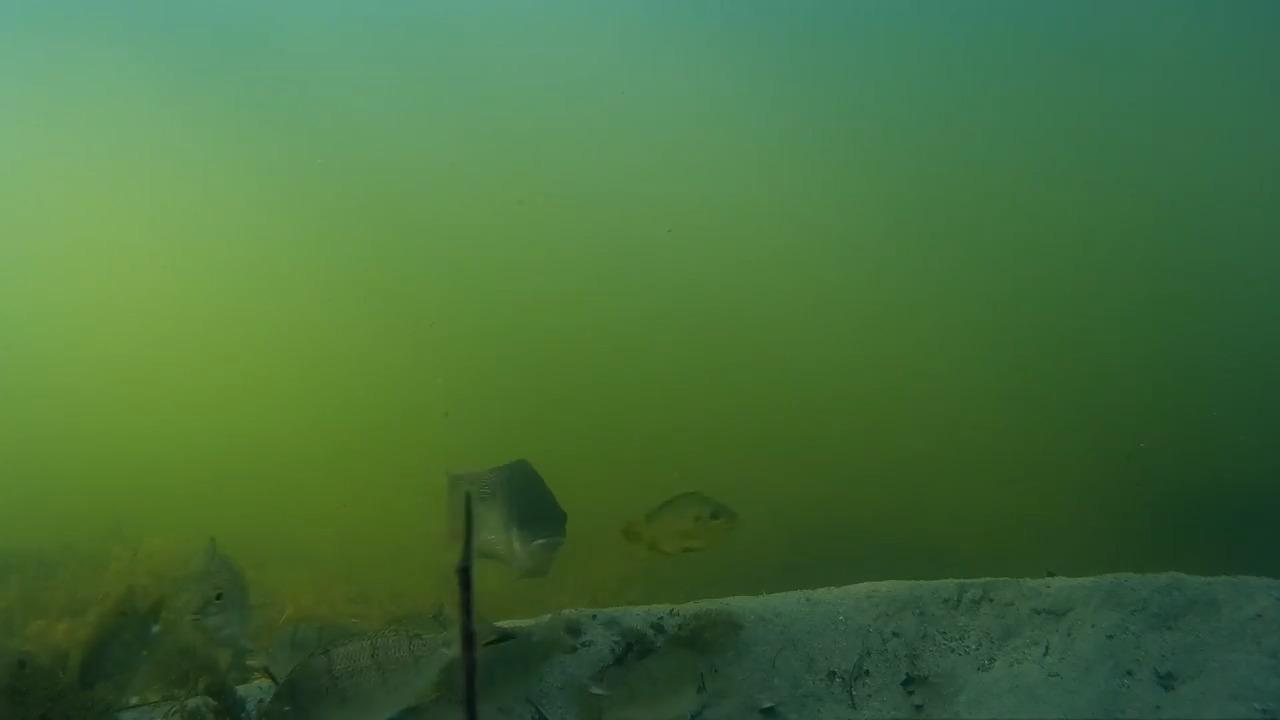Tilapia: (263, 622, 480, 720), (434, 456, 580, 597), (565, 638, 740, 720), (185, 534, 268, 654), (619, 491, 752, 561)
